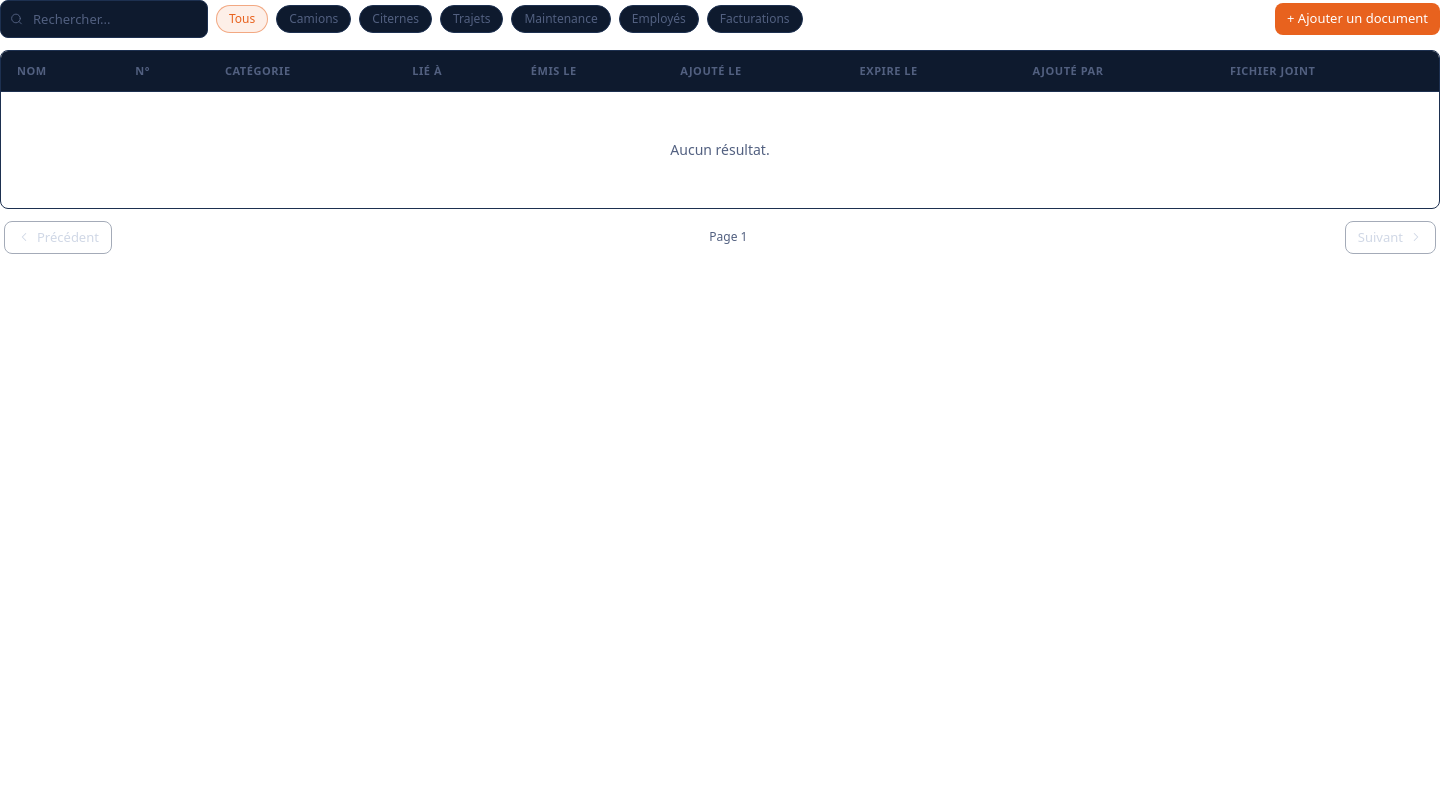
DocumentList › new document drawer › opens the drawer when the action button is clicked
Click the button "+ Ajouter un document" at [1358, 19], box [1275, 3, 1439, 35]
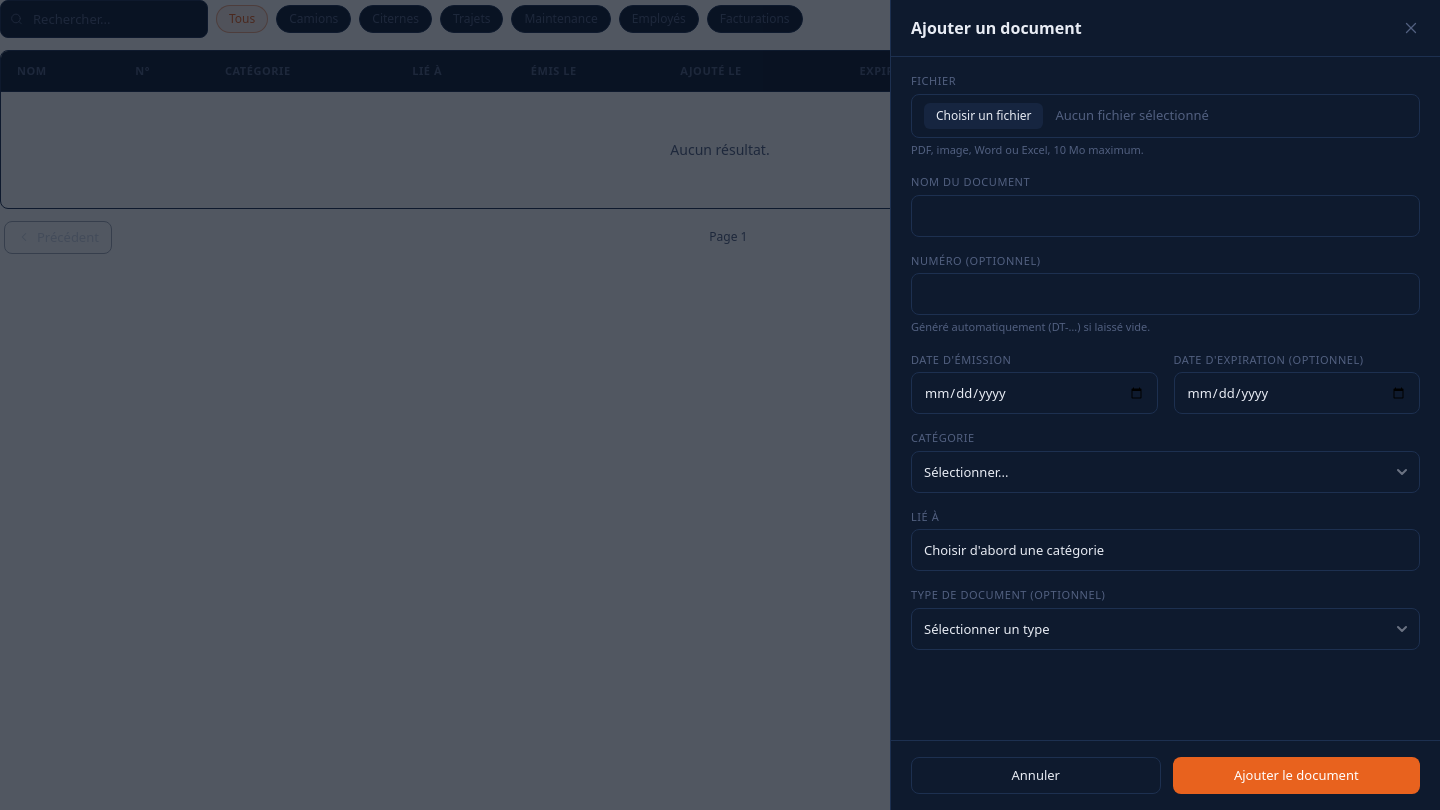
Result: the text "Ajouter un document" is shown at [911, 16, 1082, 40]
